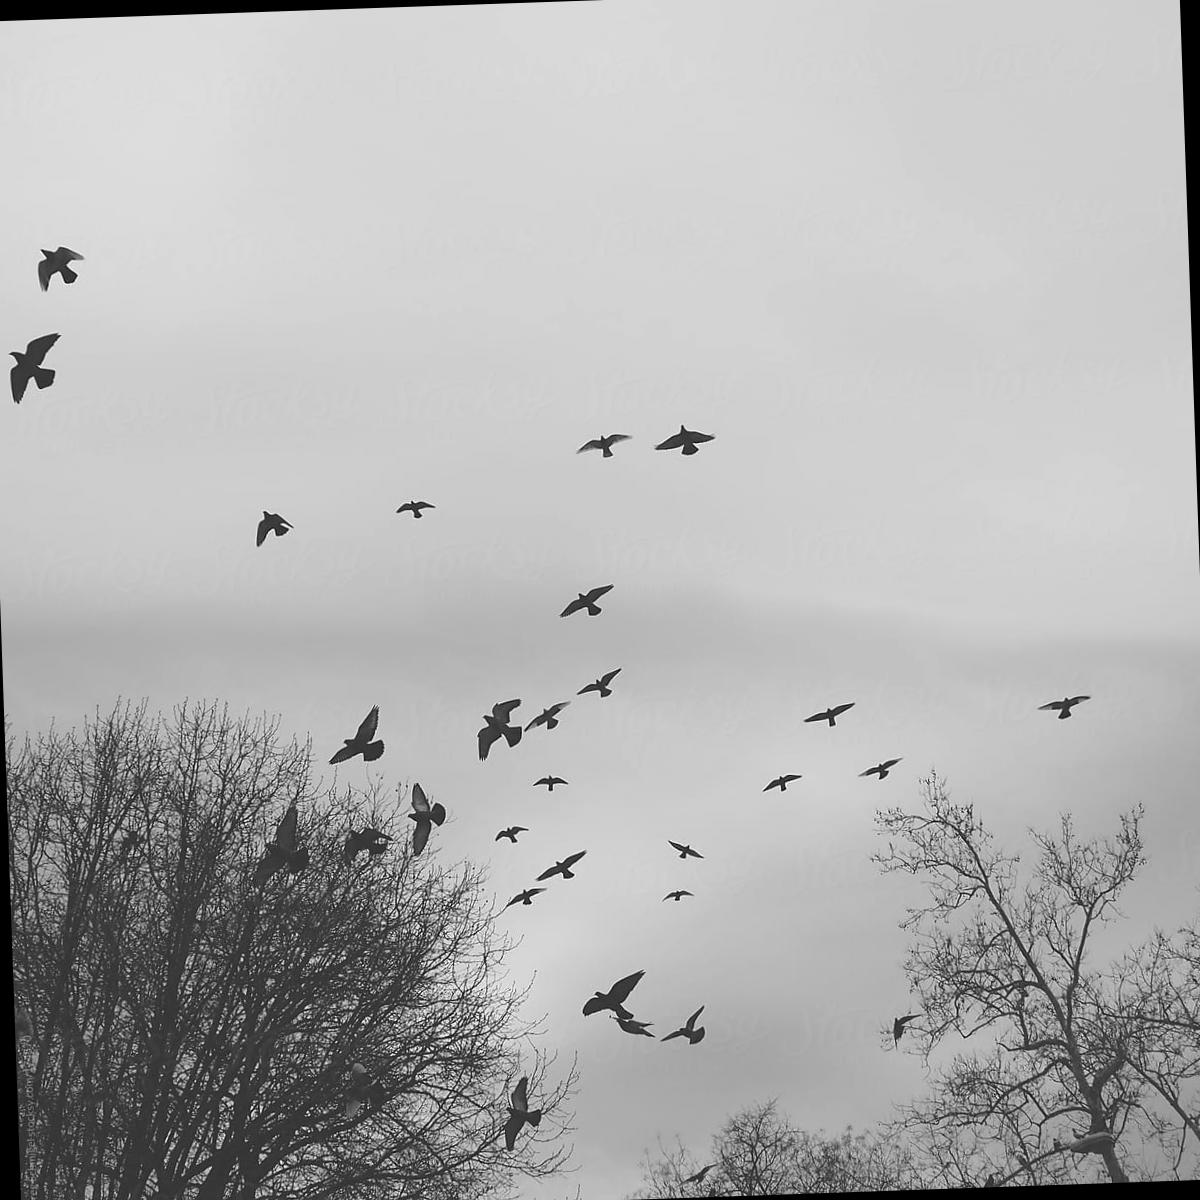bird: (1, 222, 116, 299), (0, 319, 79, 416), (449, 689, 530, 774), (488, 1066, 554, 1159), (393, 767, 449, 866), (545, 565, 619, 637), (237, 490, 305, 566), (780, 684, 863, 746), (564, 962, 657, 1016), (319, 695, 389, 767), (646, 416, 730, 474), (643, 824, 729, 873), (656, 995, 715, 1057), (527, 834, 595, 889), (564, 660, 632, 710), (848, 742, 912, 791), (1031, 685, 1101, 727), (562, 425, 637, 464), (384, 482, 447, 527), (745, 762, 812, 800), (519, 693, 570, 741), (608, 1008, 656, 1054), (495, 884, 553, 915), (524, 764, 577, 796), (484, 814, 527, 851), (655, 886, 712, 904)
